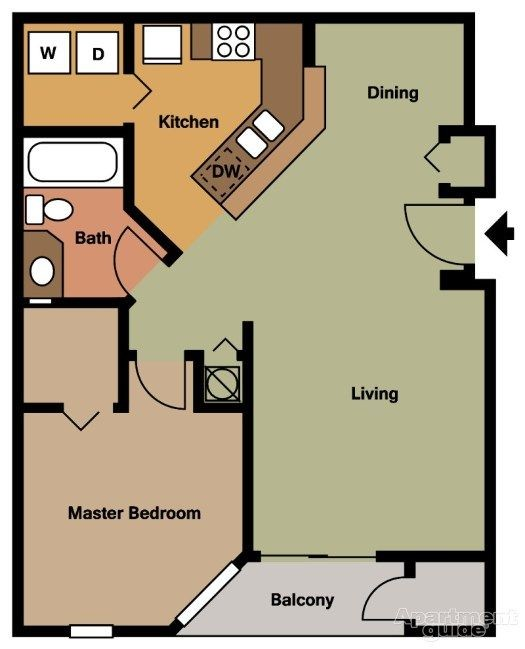room: (313, 25, 489, 551), (12, 400, 252, 639), (19, 12, 307, 123), (249, 209, 316, 559), (16, 128, 138, 306), (242, 552, 498, 635), (20, 302, 125, 405), (386, 200, 477, 268), (107, 223, 167, 301), (133, 348, 191, 417), (343, 572, 417, 626), (128, 69, 167, 112), (409, 136, 445, 181), (63, 406, 106, 437)
wall: (3, 5, 28, 641), (476, 272, 515, 646), (7, 6, 480, 33), (239, 312, 264, 568), (375, 541, 502, 568), (456, 3, 483, 126), (8, 118, 140, 143), (20, 287, 137, 312), (112, 294, 134, 421), (118, 123, 145, 215), (431, 265, 499, 298), (432, 179, 503, 206), (113, 619, 180, 647), (7, 617, 70, 646), (480, 117, 501, 202), (433, 119, 501, 144), (118, 9, 142, 78), (185, 348, 207, 418), (298, 10, 325, 67), (187, 397, 256, 419), (10, 399, 69, 421), (401, 545, 424, 578)
window: (173, 551, 241, 624), (70, 619, 113, 648)
